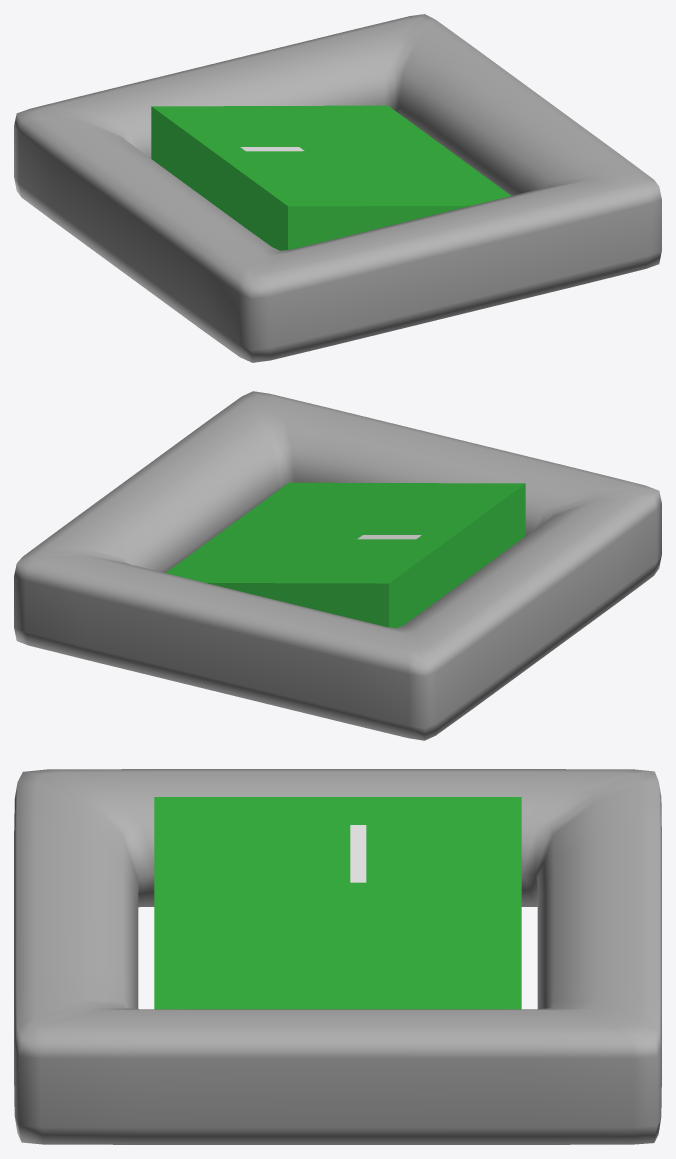
3 renders of one model, top to bottom at view 1: azimuth 30°, elevation 25°; view 2: azimuth 150°, elevation 25°; view 3: azimuth 270°, elevation 25°, orthographic. The views are drawn at different scales.
Parts seen in each view (by area): view 1: transformer, Cube; view 2: transformer, Cube; view 3: transformer, Cube, Text.
Part boxes in pixels (bbox=[...]): transformer: bbox=[14, 14, 661, 362]; Cube: bbox=[151, 105, 510, 250]; transformer: bbox=[14, 391, 661, 740]; Cube: bbox=[165, 482, 525, 628]; transformer: bbox=[14, 769, 661, 1144]; Cube: bbox=[154, 797, 521, 1009]; Text: bbox=[350, 825, 366, 882].
Bounding box in the file's own units: 300 × 72.04 × 300.
